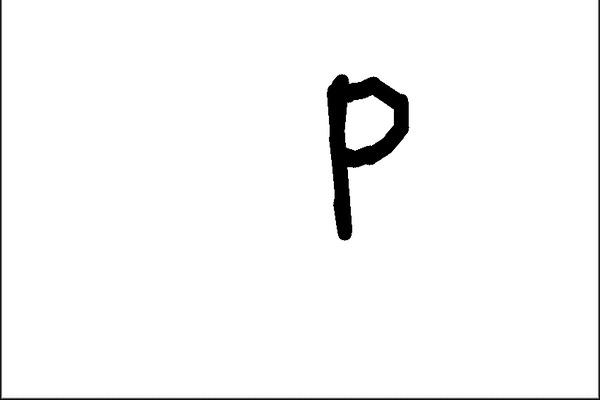P: (309, 65, 420, 250)
